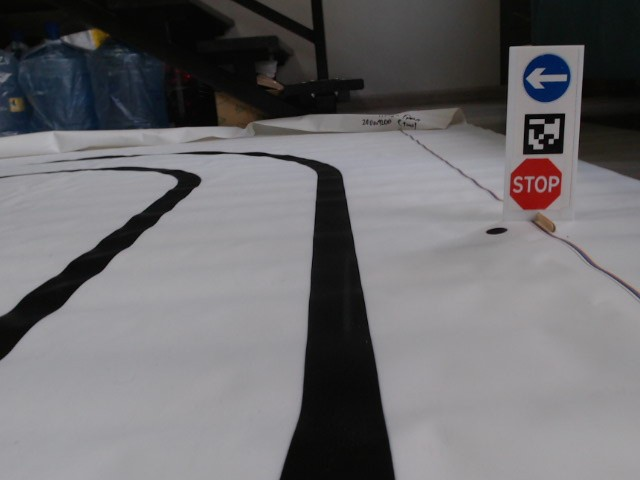Stop: (508, 155, 563, 212)
